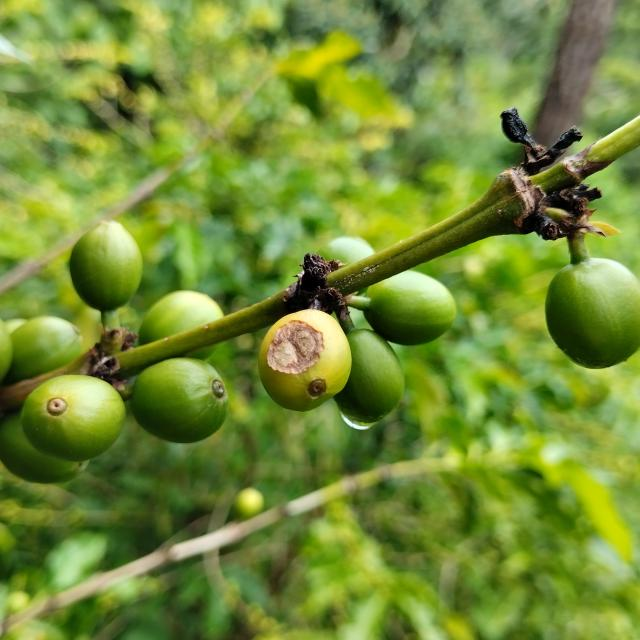green: (546, 258, 640, 369), (20, 375, 125, 462), (130, 358, 228, 443), (348, 270, 457, 345), (334, 329, 405, 429), (69, 220, 142, 311), (0, 412, 88, 484), (4, 316, 81, 384), (138, 290, 223, 345), (317, 236, 375, 265), (189, 346, 215, 360)
red: (258, 309, 352, 412)
